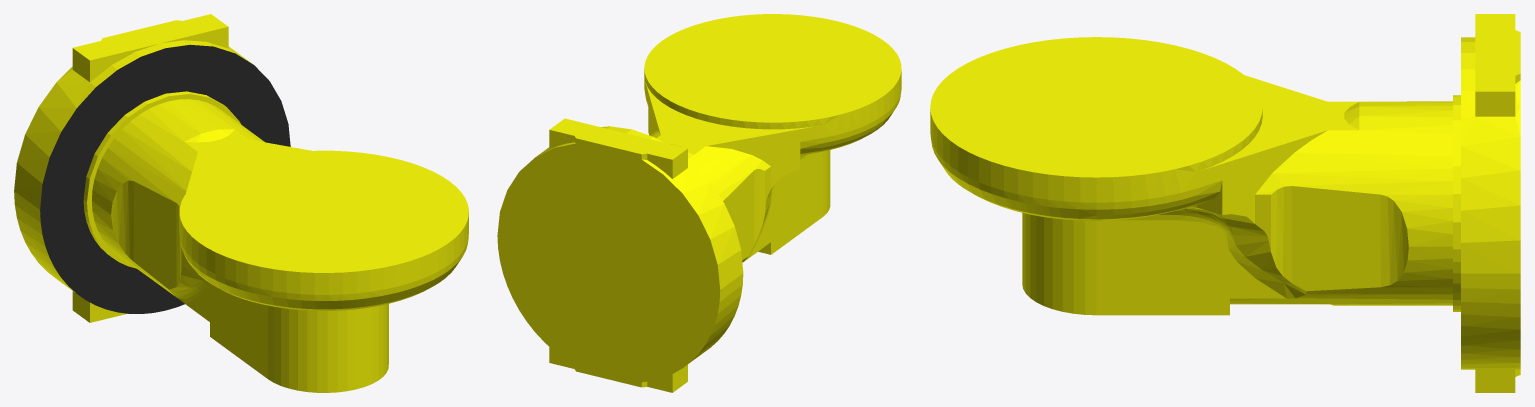
3 views of the same model, side by side, from view 1: azimuth 30°, elevation 25°; view 2: azimuth 150°, elevation 25°; view 3: azimuth 270°, elevation 25° (orthographic). The views are drawn at different scales.
Visible parts, largest first — view 1: node; view 2: node; view 3: node.
Part boxes in pixels (x1=…): node: x1=14, y1=14, x2=468, y2=392; node: x1=497, y1=14, x2=901, y2=392; node: x1=930, y1=14, x2=1520, y2=392.
Size of the model in its own units: 208 by 208 by 369.
